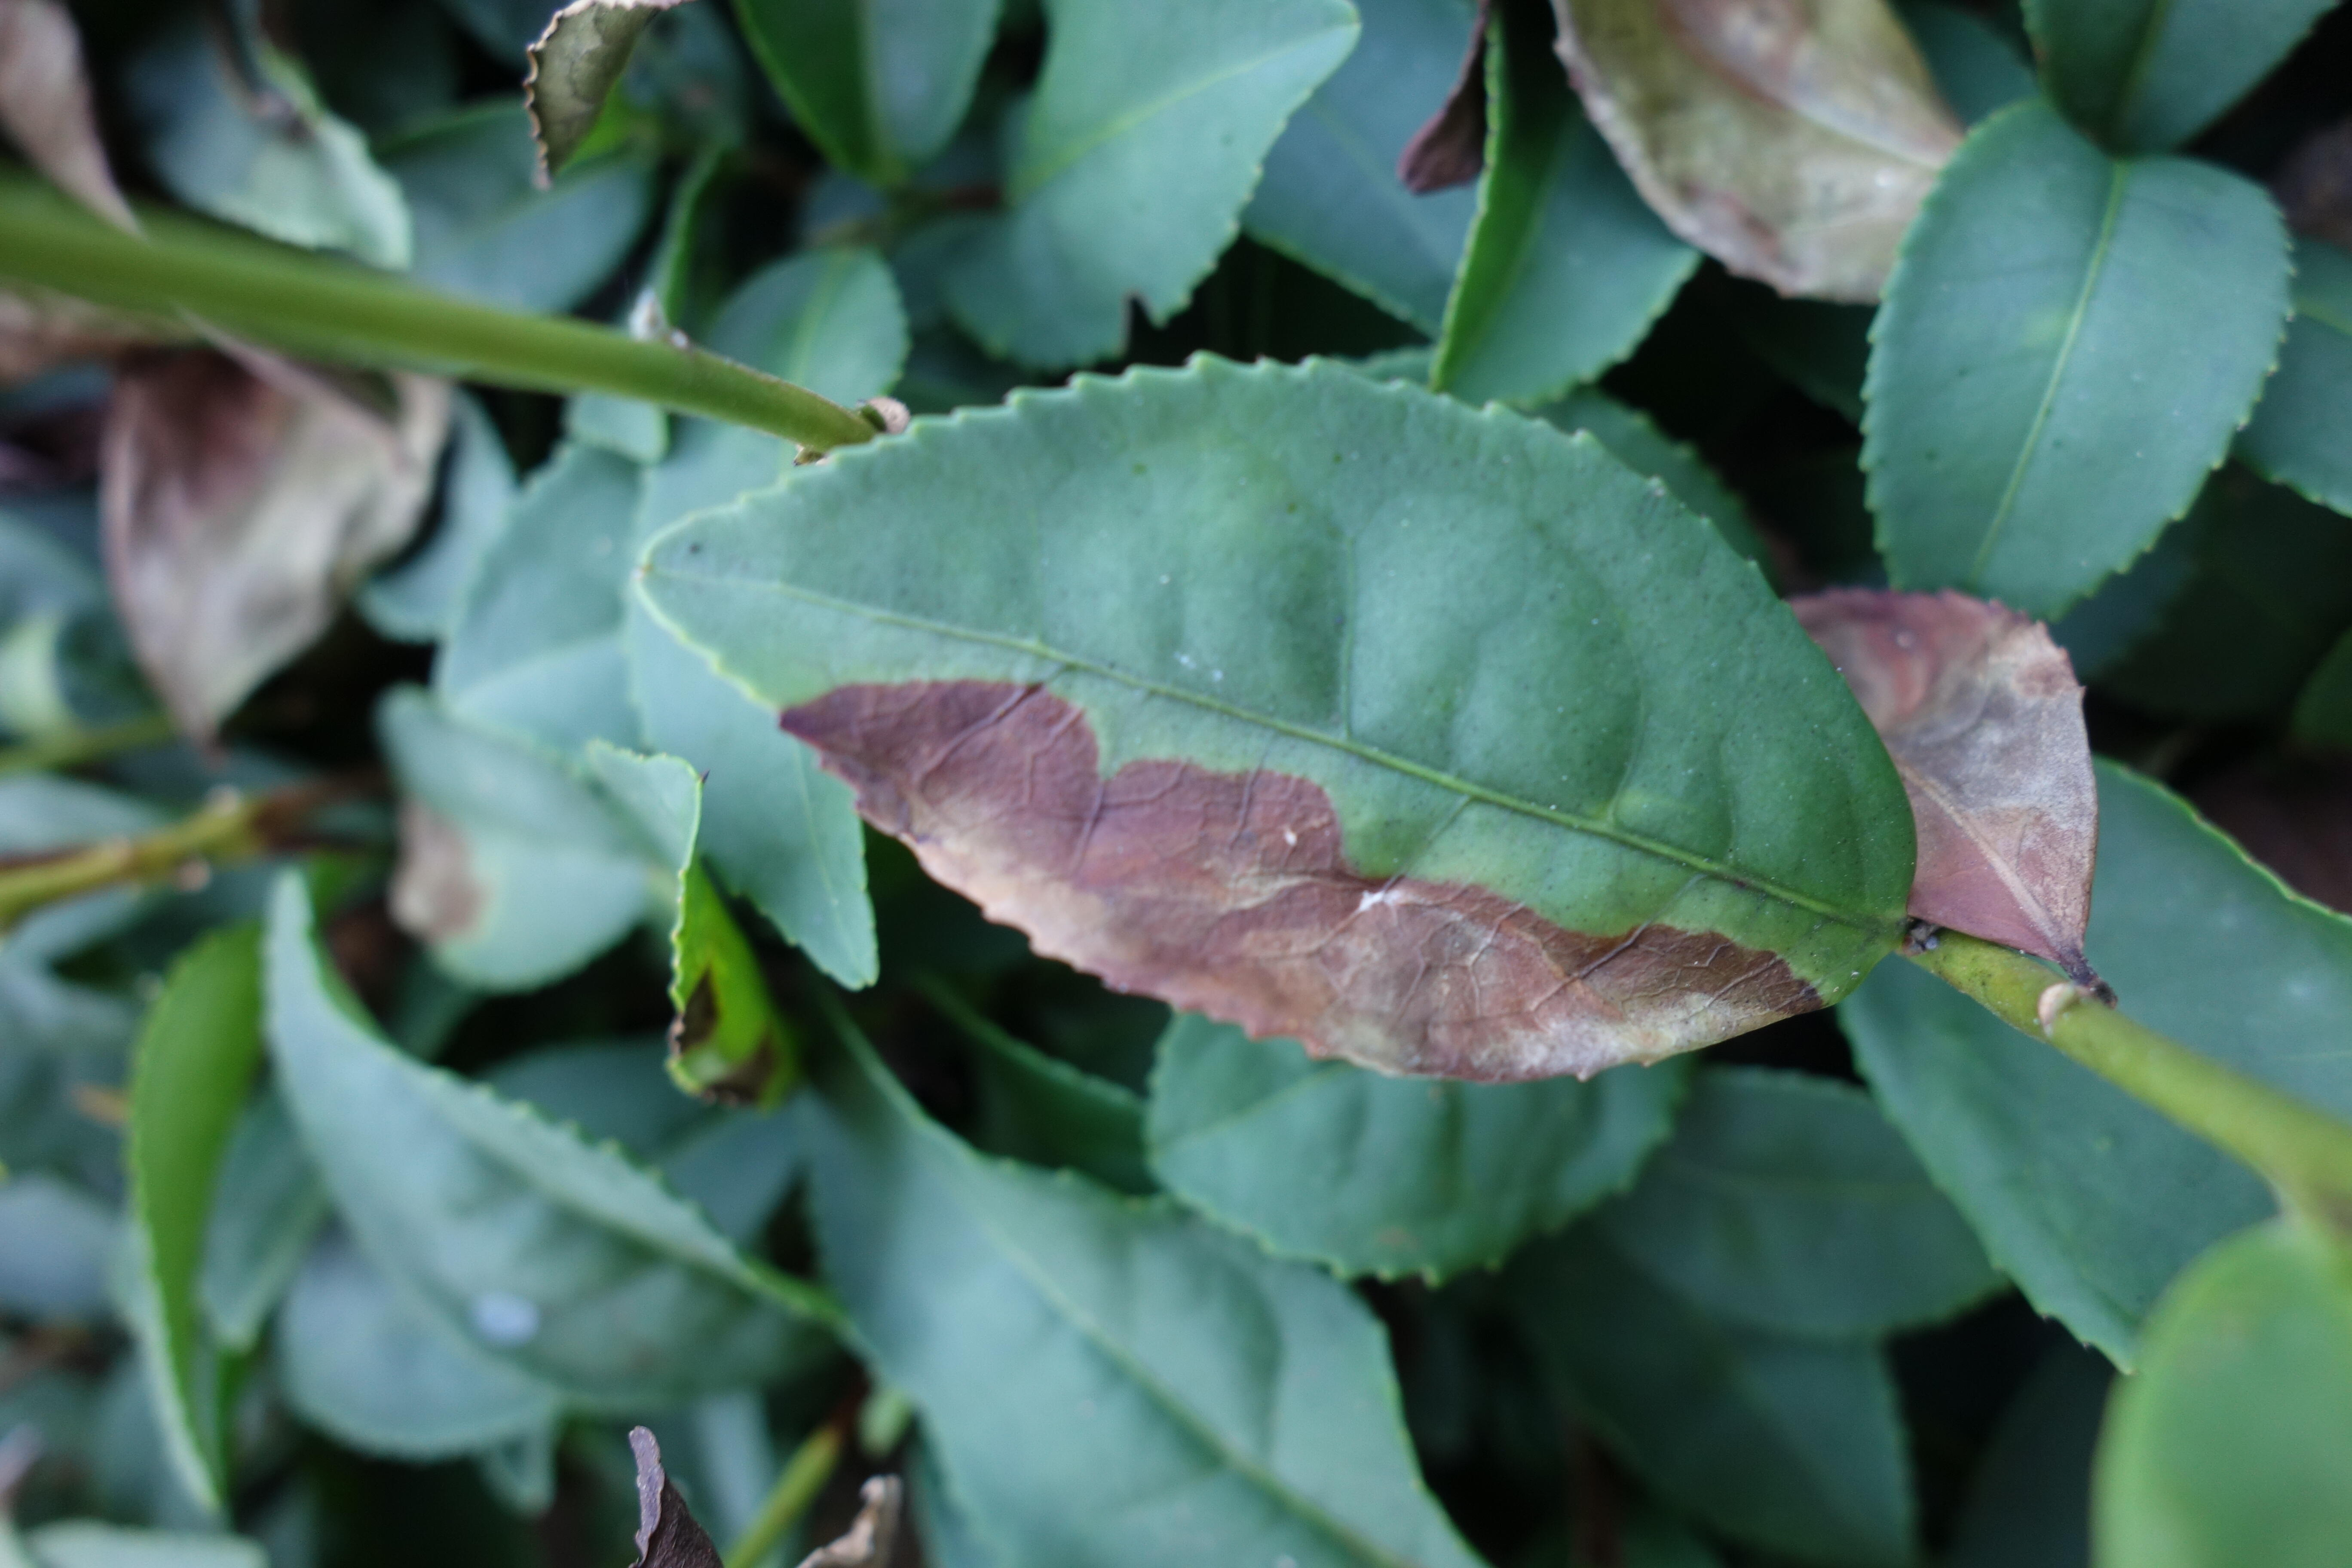tanju_high: (640, 352, 1921, 1085)
